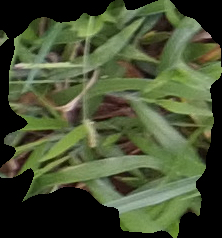grass: (1, 1, 221, 236)
